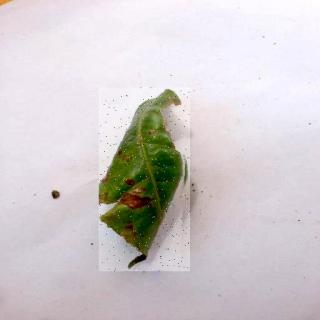Algal Leaf: (101, 89, 193, 273)
